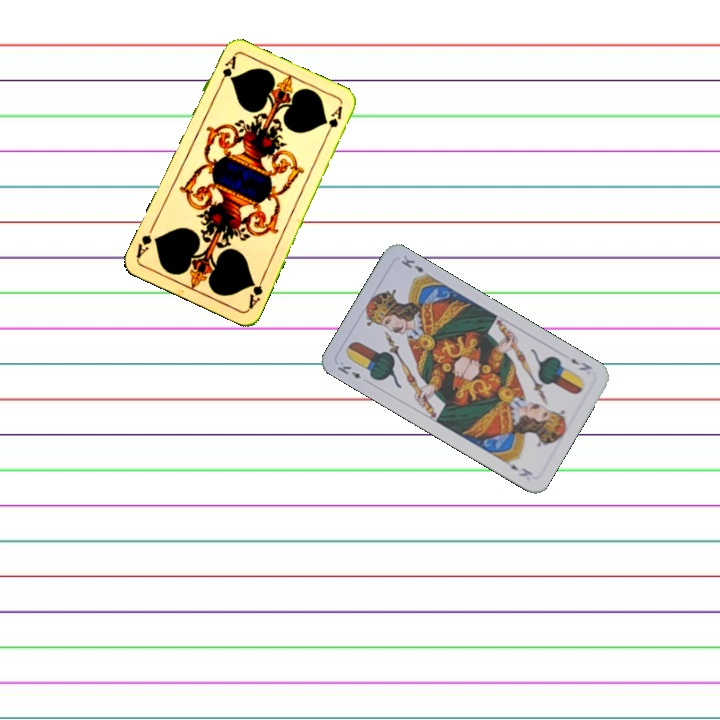EK: (333, 357, 364, 381), (567, 354, 595, 373)
GA: (215, 52, 239, 90), (244, 273, 267, 312)
